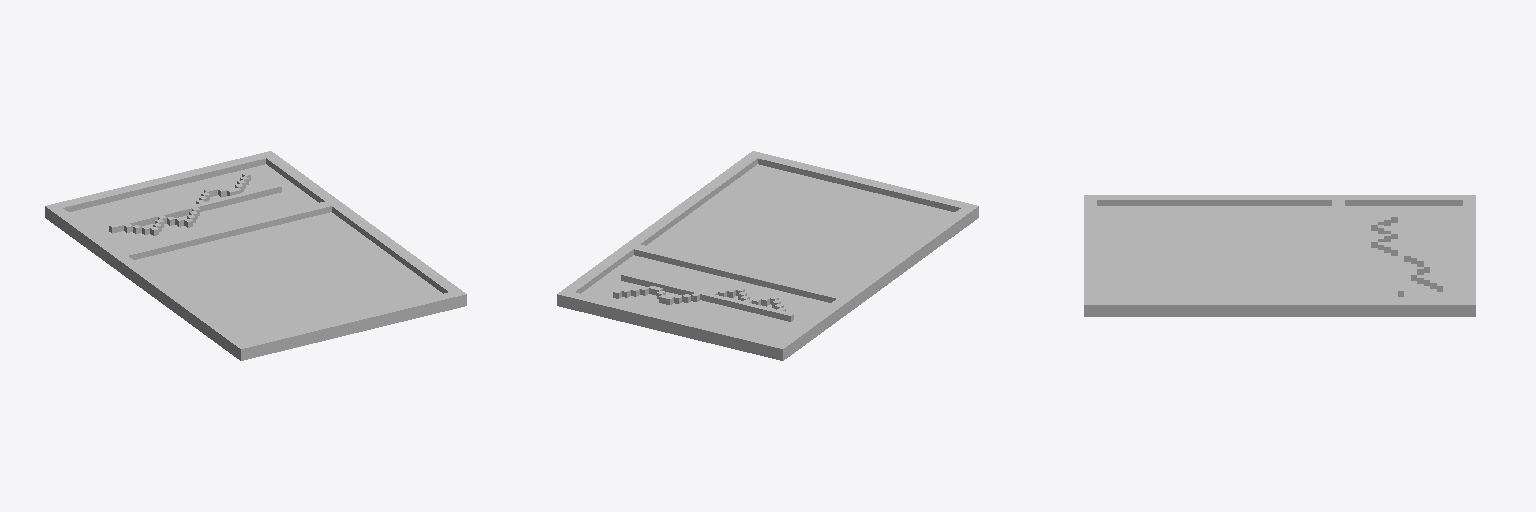
Rendered from tile2.obj.
3 renders of one model, left to right at view 1: azimuth 30°, elevation 25°; view 2: azimuth 150°, elevation 25°; view 3: azimuth 270°, elevation 25°, orthographic.
Visible parts, largest first — view 1: object 1; view 2: object 1; view 3: object 1.
Boxes of the visible parts, <box> form: object 1: <box>45,151,466,360</box>; object 1: <box>557,151,978,360</box>; object 1: <box>1084,195,1475,316</box>.
Bounding box in the file's own units: 4 × 0.2 × 6.